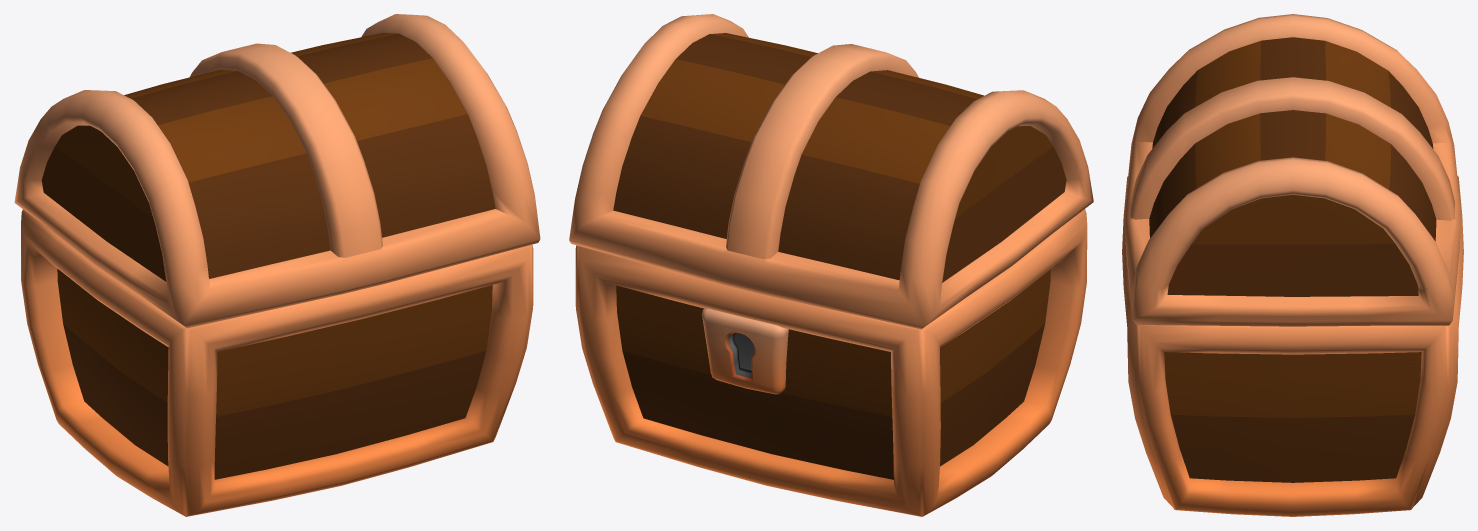
File: Trasure_Chest_V2_0.fbx
3 renders of one model, left to right at view 1: azimuth 30°, elevation 25°; view 2: azimuth 150°, elevation 25°; view 3: azimuth 270°, elevation 25°, orthographic. The views are drawn at different scales.
Visible parts, largest first — view 1: Trasure_Chest_V2_0; view 2: Trasure_Chest_V2_0; view 3: Trasure_Chest_V2_0.
Part boxes in pixels (bbox=[...]): Trasure_Chest_V2_0: bbox=[14, 14, 540, 516]; Trasure_Chest_V2_0: bbox=[569, 14, 1093, 516]; Trasure_Chest_V2_0: bbox=[1122, 14, 1463, 516].
Bounding box in the file's own units: 0.4473 × 0.4389 × 0.3773.
